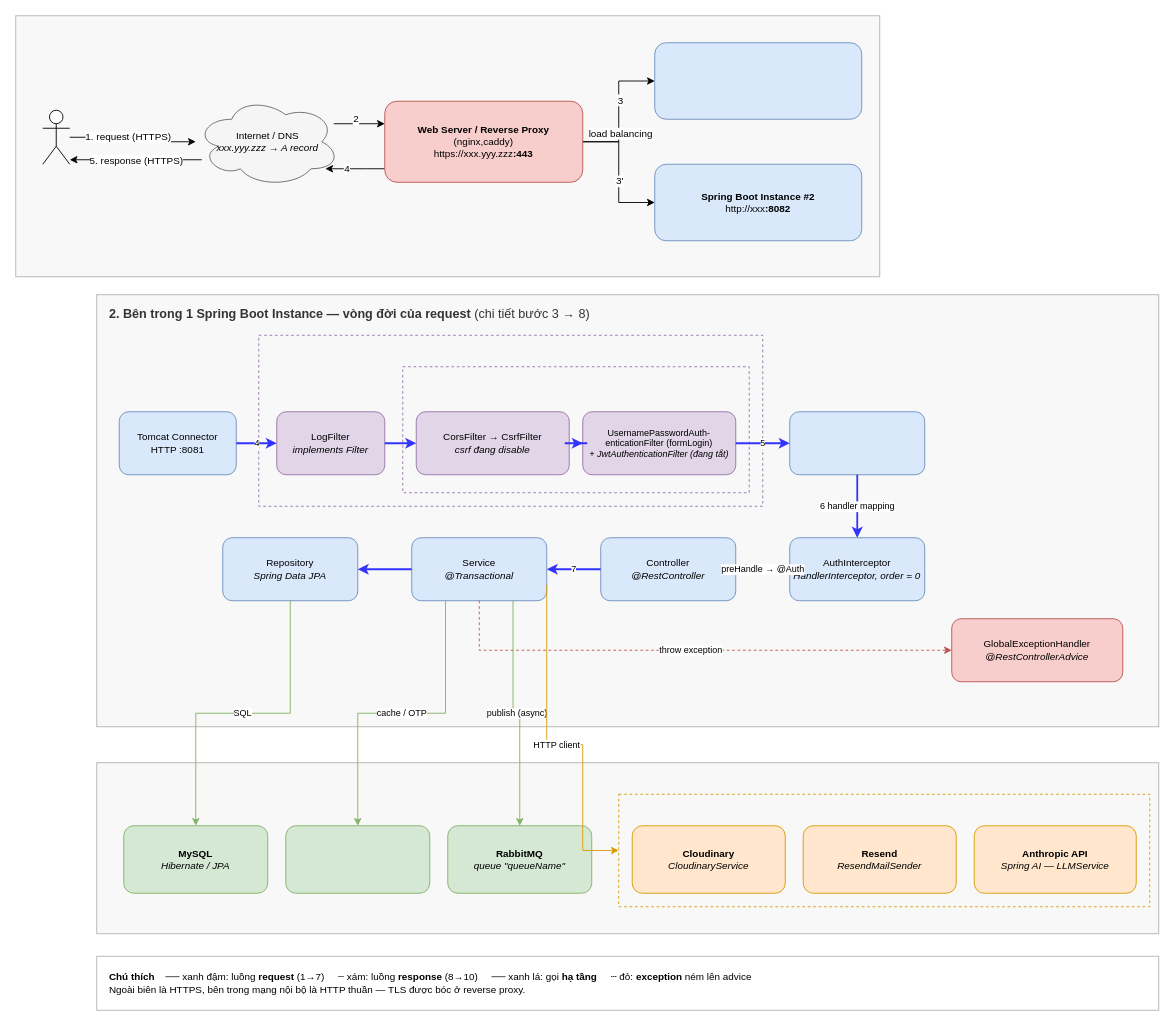
The diagram is 1175 pixels wide and 1026 high, and some of its shapes have lost their labels. Each missing label, with the box of its shape:
1. Client To Service: (15, 15, 880, 277)
3. Hạ tầng & dịch vụ ngoài: (96, 762, 1159, 934)
Client / Browser: (42, 109, 70, 164)
DispatcherServlet: (789, 411, 925, 475)
External HTTP APIs: (618, 793, 1150, 907)
Redis OtpStore, AccountProfileCache: (285, 825, 430, 893)
Servlet Filter Chain: (258, 334, 763, 506)
Spring Boot Instance #1 http://xxx :8081: (654, 42, 862, 119)
Spring Security FilterChainProxy: (402, 366, 749, 493)
